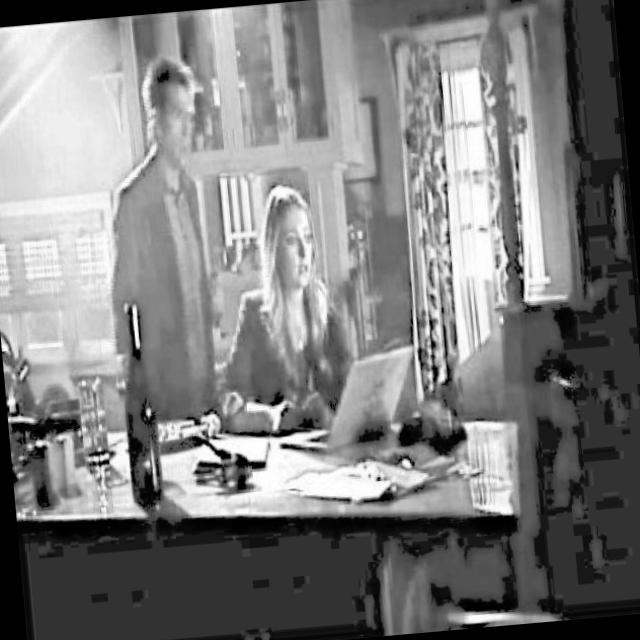Person: (84, 39, 224, 424), (197, 178, 368, 440)
